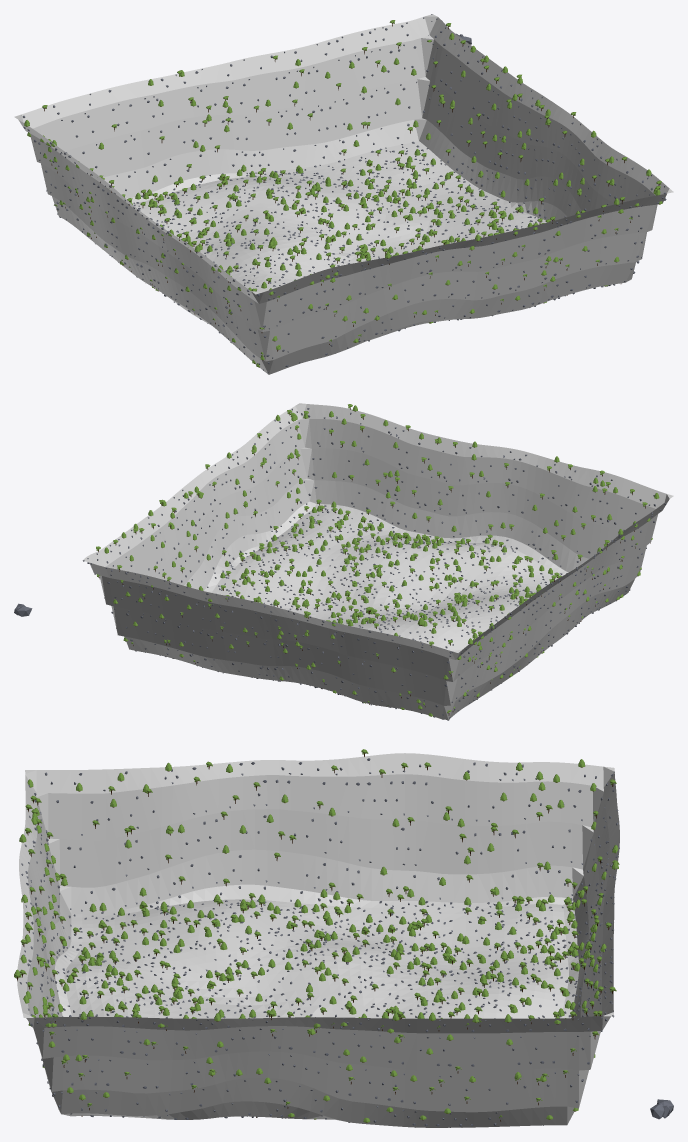
Rendered from final-map.dae.
3 views of the same model, one above another, from view 1: azimuth 30°, elevation 25°; view 2: azimuth 150°, elevation 25°; view 3: azimuth 270°, elevation 25° (orthographic). The views are drawn at different scales.
Visible parts, largest first — view 1: Plane; view 2: Plane; view 3: Plane.
Part boxes in pixels (bbox=[...]): Plane: bbox=[14, 14, 673, 374]; Plane: bbox=[83, 403, 673, 719]; Plane: bbox=[17, 753, 619, 1127].
Size of the model in its own units: 1157 by 1122 by 277.
